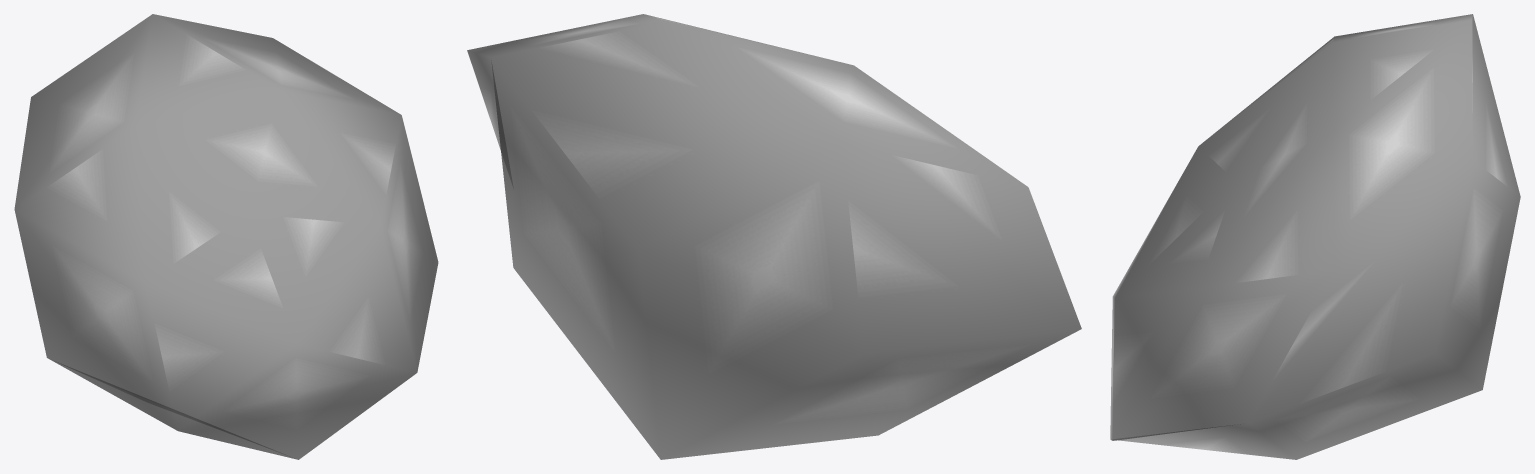
Rendered from diamond.glb.
3 views of the same model, side by side, from view 1: azimuth 30°, elevation 25°; view 2: azimuth 150°, elevation 25°; view 3: azimuth 270°, elevation 25° (orthographic). The views are drawn at different scales.
Parts seen in each view (by area): view 1: Rubis-subsea.png__; view 2: Rubis-subsea.png__; view 3: Rubis-subsea.png__.
Boxes of the visible parts, box(x1,y1,x2,y2) form: Rubis-subsea.png__: box(14, 14, 438, 459); Rubis-subsea.png__: box(467, 14, 1081, 459); Rubis-subsea.png__: box(1110, 14, 1520, 459).
Bounding box in the file's own units: 1.17 × 0.9675 × 0.8582.
Materials: 1 (1 with a texture image).
